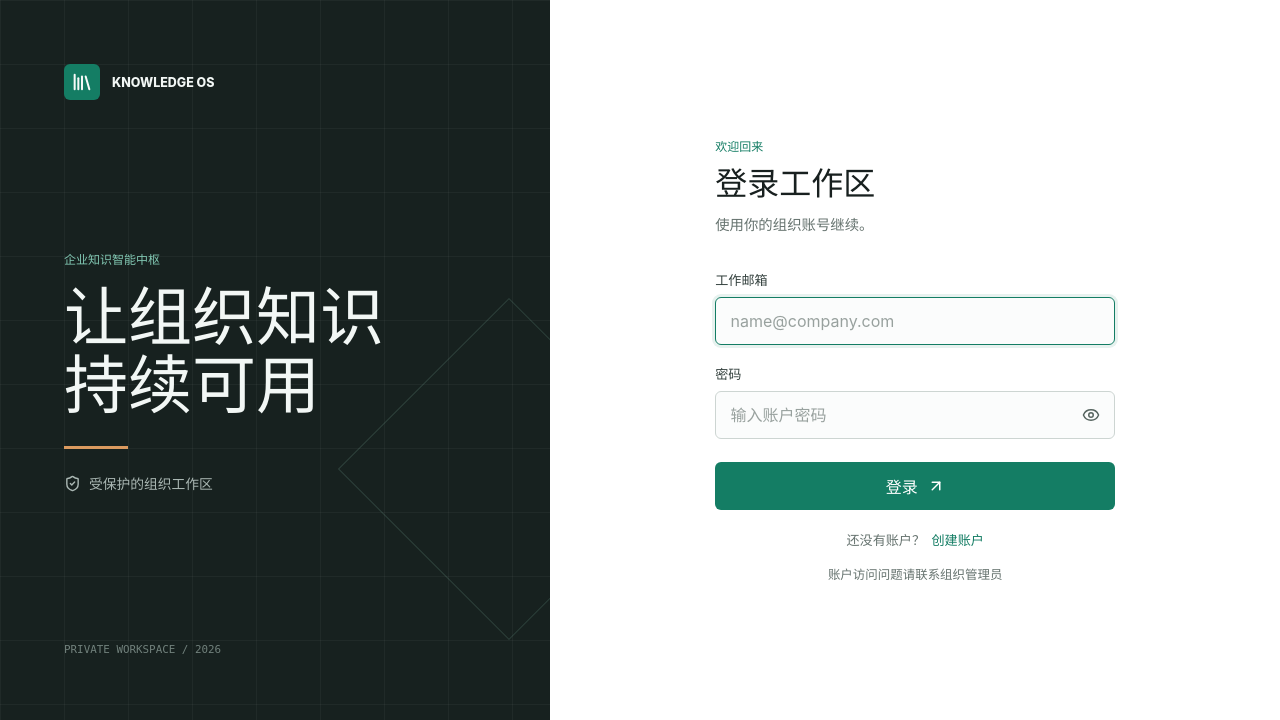
Test: authentication workspace › registers and enters the workbench without persisting the access token
The image size is (1280, 720).
Step 1. Click the button "创建账户" → (958, 539), box [932,530,984,549]
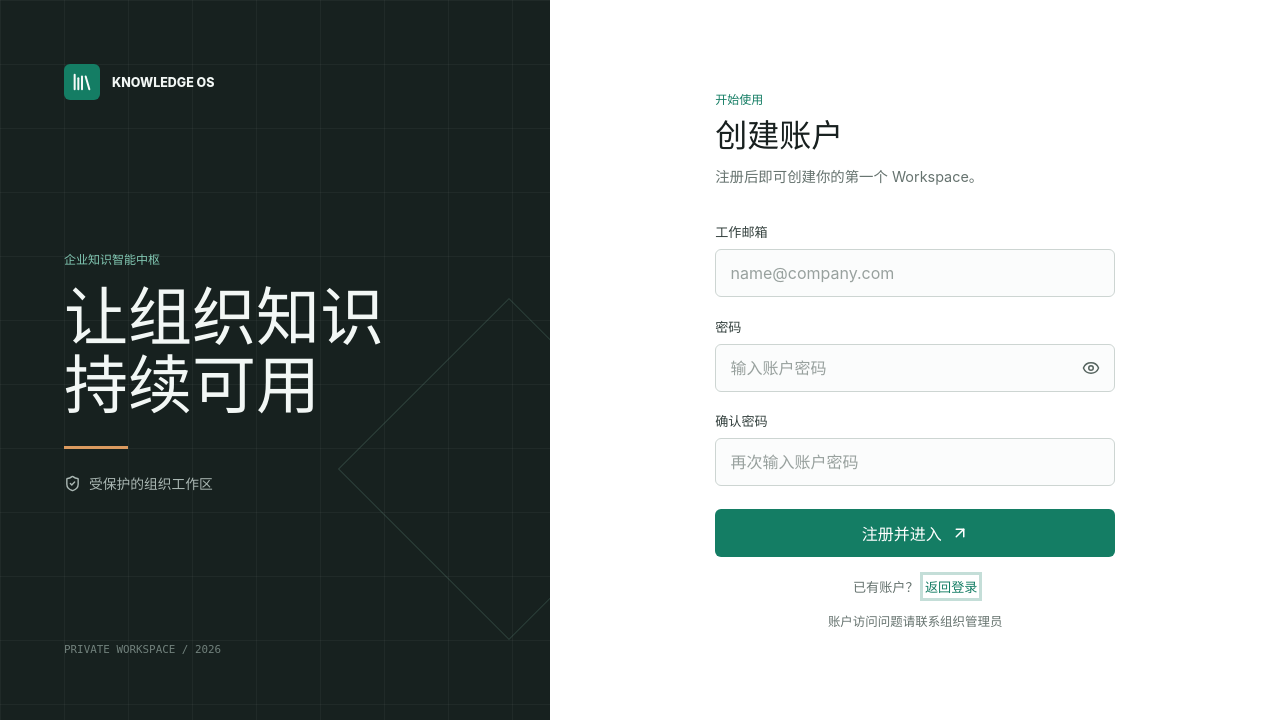
Step 2. Type "analyst@example.com" into the field labelled "工作邮箱" → (915, 273), box [715,249,1115,297]
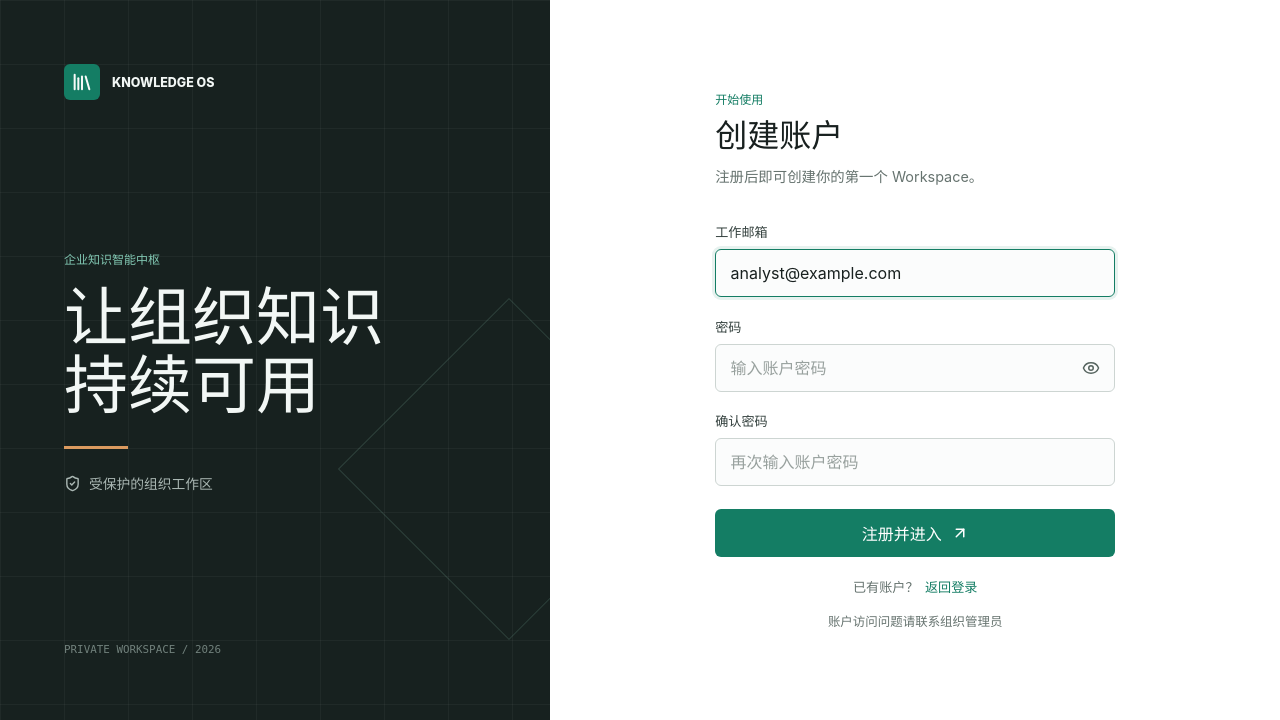
Step 3. Type "correct-password" into the password field labelled "密码" → (915, 368), box [715,344,1115,392]
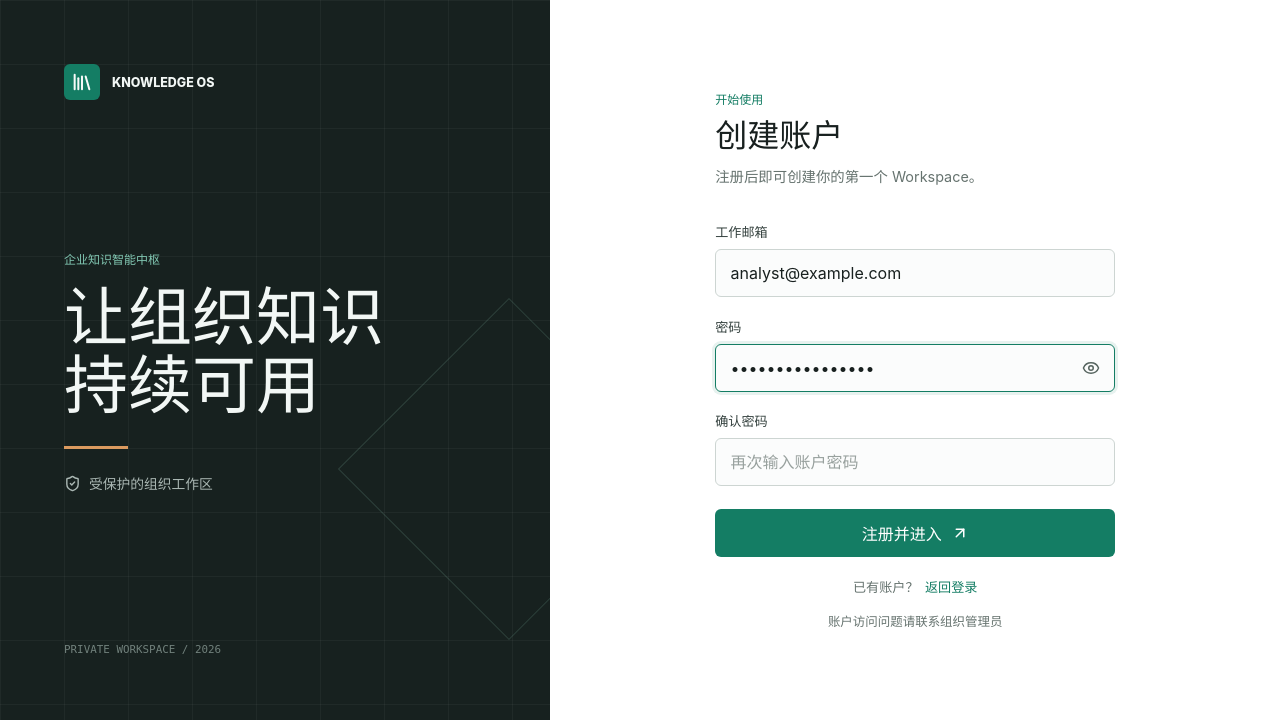
Step 4. Type "correct-password" into the password field labelled "确认密码" → (915, 462), box [715,438,1115,486]
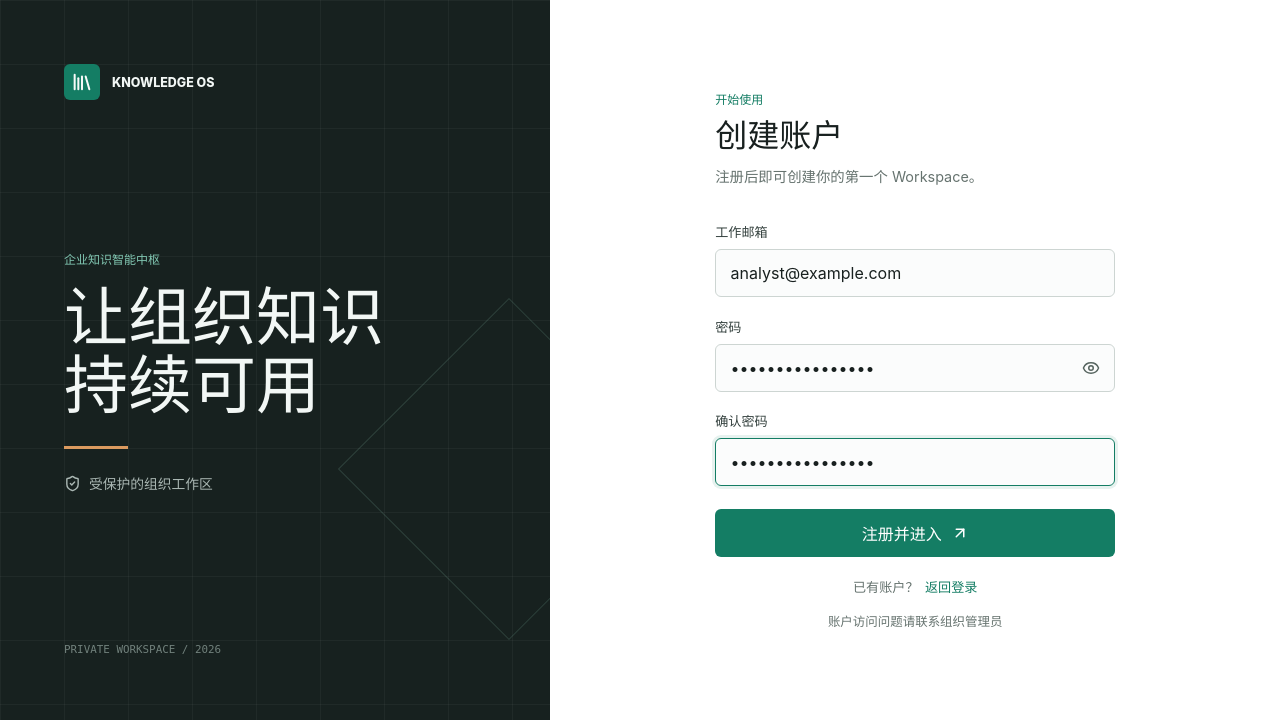
Step 5. Click the button "注册并进入" → (915, 533), box [715,509,1115,557]
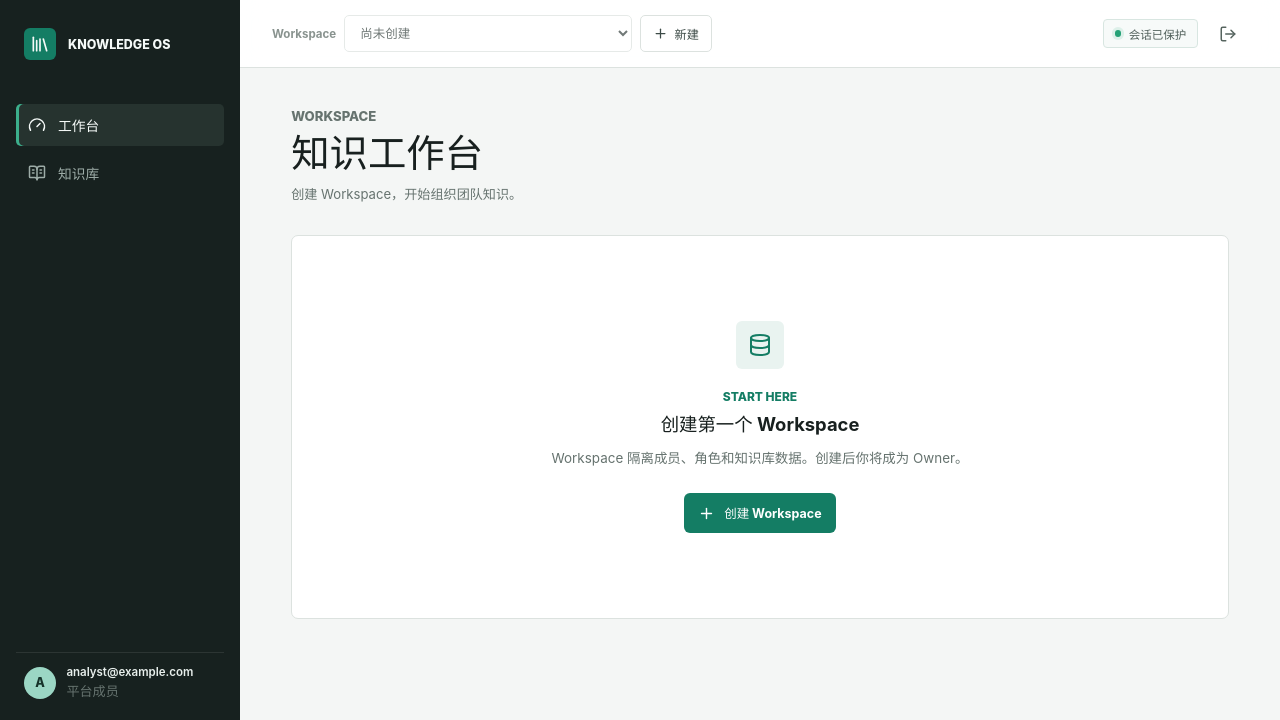
Result: the heading "知识工作台" is shown at [291,130,483,176]
